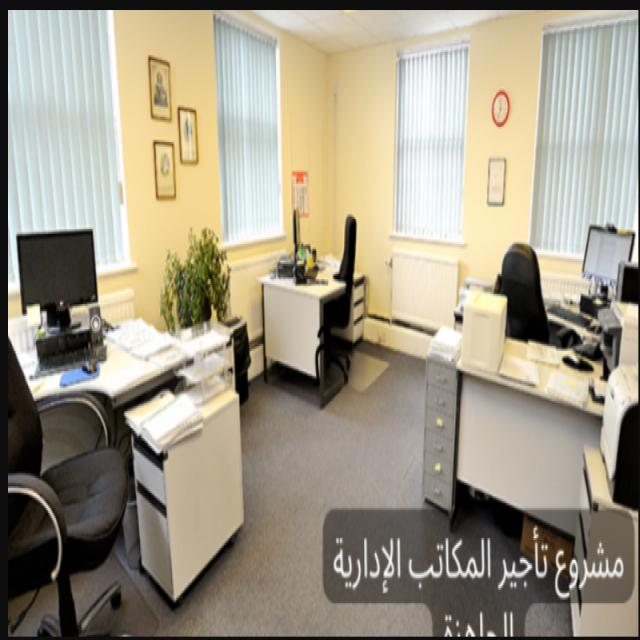chair: (5, 363, 117, 588), (492, 233, 568, 392), (330, 220, 384, 333)
computer: (12, 225, 104, 371), (582, 198, 629, 328), (281, 198, 315, 295)
desk: (81, 334, 255, 567), (446, 301, 610, 506), (267, 247, 343, 361)
